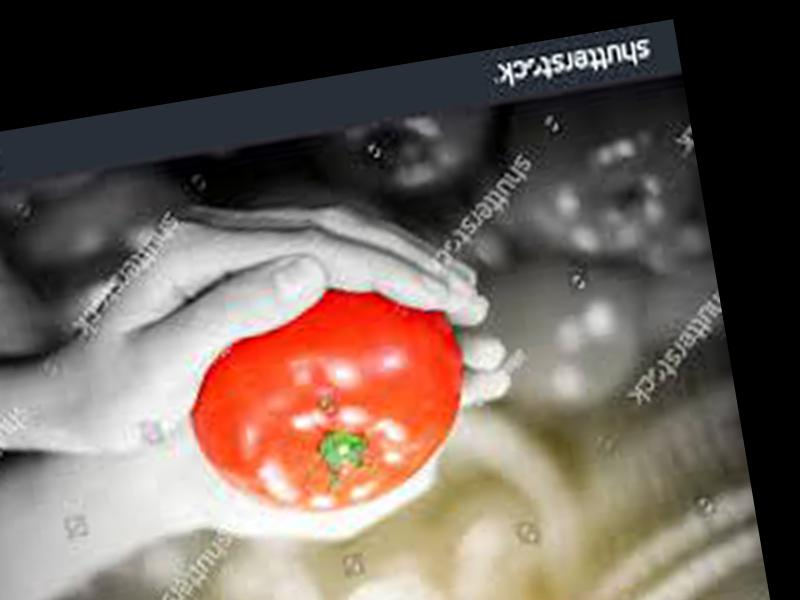Tomato: (174, 272, 481, 530)
